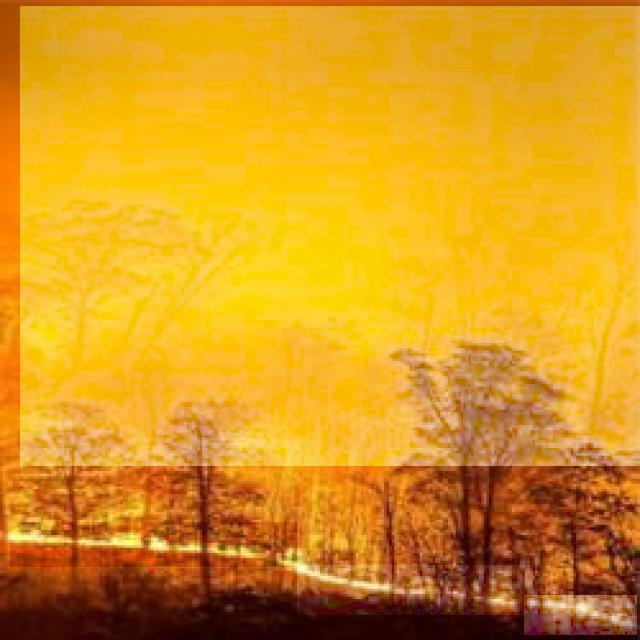Fire: (10, 522, 298, 567), (297, 565, 533, 615), (524, 596, 637, 636)
Smoke: (20, 6, 640, 466)
